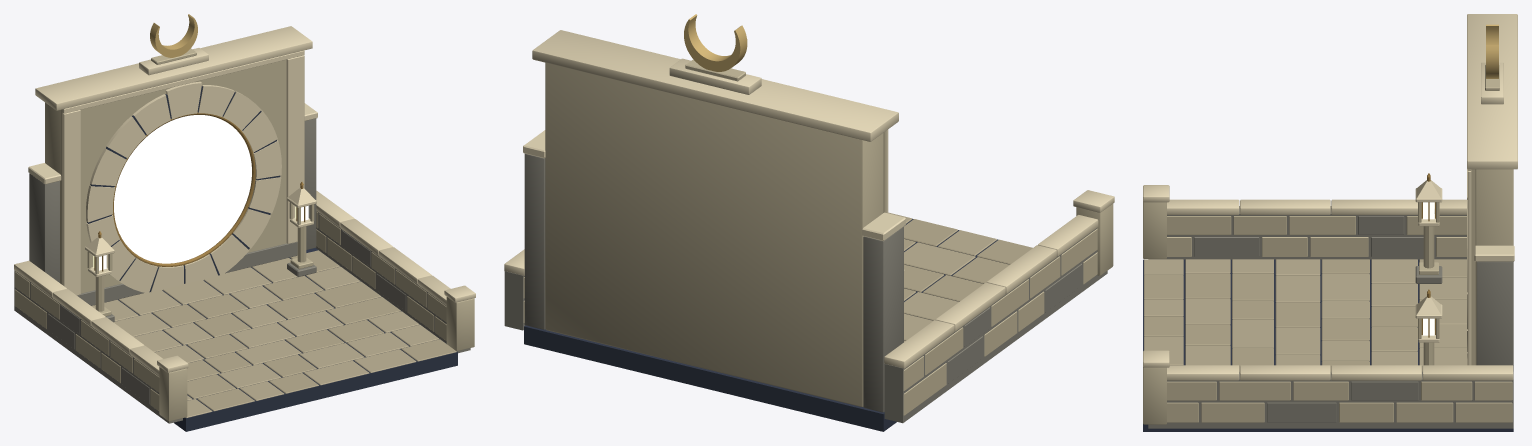
Rendered from shadow-entry-v01.glb.
3 renders of one model, left to right at view 1: azimuth 30°, elevation 25°; view 2: azimuth 150°, elevation 25°; view 3: azimuth 270°, elevation 25°, orthographic. The views are drawn at different scales.
Visible parts, largest first — view 1: Shadow sandstone light 5, Shadow sandstone 4, Shadow floor warm 1, Shadow portal day 6, Shadow floor warm alt 2, Shadow sandstone shade 3, Shadow grout 0, Shadow brass 7, Shadow gold 8; view 2: Shadow sandstone 4, Shadow sandstone light 5, Shadow sandstone shade 3, Shadow grout 0, Shadow floor warm alt 2, Shadow floor warm 1, Shadow gold 8; view 3: Shadow sandstone 4, Shadow sandstone light 5, Shadow floor warm 1, Shadow sandstone shade 3, Shadow floor warm alt 2, Shadow grout 0, Shadow gold 8, Shadow lamp glow 9.
Part boxes in pixels (left/top/right/bottom): Shadow sandstone light 5: left=14, top=26, right=475, bottom=375; Shadow sandstone 4: left=14, top=48, right=474, bottom=421; Shadow floor warm 1: left=91, top=258, right=438, bottom=417; Shadow portal day 6: left=114, top=115, right=251, bottom=263; Shadow floor warm alt 2: left=152, top=250, right=456, bottom=411; Shadow sandstone shade 3: left=14, top=118, right=470, bottom=423; Shadow grout 0: left=87, top=86, right=457, bottom=431; Shadow brass 7: left=94, top=112, right=305, bottom=271; Shadow gold 8: left=150, top=14, right=197, bottom=57; Shadow sandstone 4: left=523, top=59, right=1113, bottom=415; Shadow sandstone light 5: left=504, top=30, right=1114, bottom=368; Shadow sandstone shade 3: left=504, top=153, right=1107, bottom=423; Shadow grout 0: left=524, top=218, right=998, bottom=431; Shadow floor warm alt 2: left=904, top=219, right=1032, bottom=301; Shadow floor warm 1: left=888, top=212, right=996, bottom=341; Shadow gold 8: left=684, top=14, right=747, bottom=71; Shadow sandstone 4: left=1143, top=65, right=1513, bottom=424; Shadow sandstone light 5: left=1143, top=14, right=1517, bottom=380; Shadow floor warm 1: left=1144, top=259, right=1467, bottom=371; Shadow sandstone shade 3: left=1148, top=206, right=1513, bottom=428; Shadow floor warm alt 2: left=1144, top=259, right=1466, bottom=371; Shadow grout 0: left=1143, top=259, right=1513, bottom=431; Shadow gold 8: left=1486, top=24, right=1498, bottom=78; Shadow lamp glow 9: left=1423, top=202, right=1434, bottom=335.
Size of the model in its own units: 7.94 by 6.65 by 7.08.
